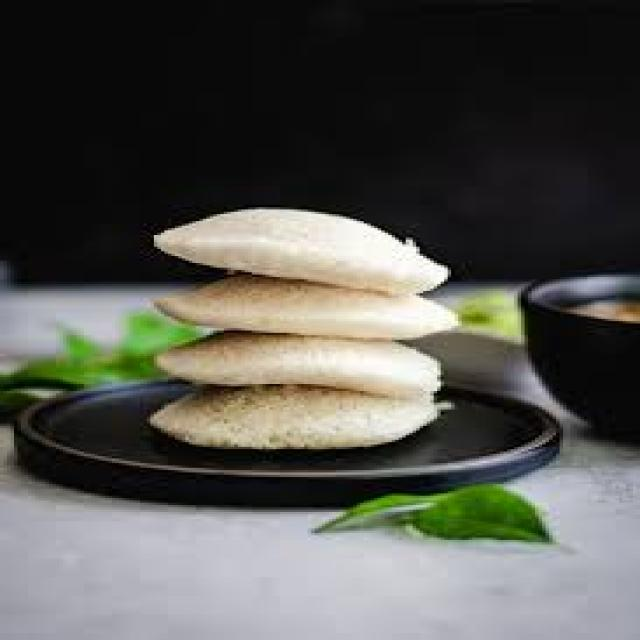Wet Waste: (126, 196, 448, 293), (126, 263, 472, 342), (133, 372, 469, 450), (144, 319, 465, 398)
